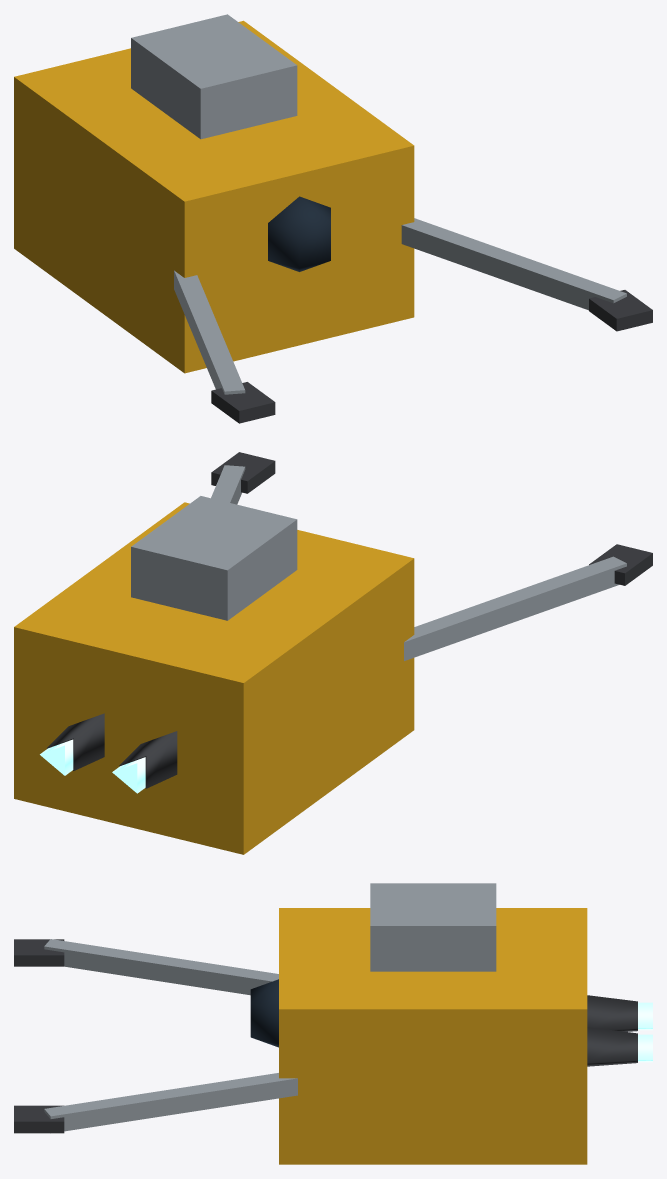
File: space_ship_builder_drone_mk4_lod2.glb
3 renders of one model, top to bottom at view 1: azimuth 30°, elevation 25°; view 2: azimuth 150°, elevation 25°; view 3: azimuth 270°, elevation 25°, orthographic. The views are drawn at different scales.
Visible parts, largest first — view 1: body, arm_1, arm_0; view 2: body, arm_0, engine_0, engine_1, arm_1; view 3: body, arm_1, arm_0, engine_1, engine_0.
Boxes of the visible parts, <box> form: body: <box>14,14,414,373</box>; arm_1: <box>401,218,652,331</box>; arm_0: <box>174,270,275,423</box>; body: <box>14,496,414,854</box>; arm_0: <box>404,544,652,660</box>; engine_0: <box>112,731,177,793</box>; engine_1: <box>40,713,104,775</box>; arm_1: <box>211,452,275,504</box>; body: <box>250,883,587,1164</box>; arm_1: <box>14,1073,297,1133</box>; arm_0: <box>14,939,278,995</box>; engine_1: <box>587,1027,652,1066</box>; engine_0: <box>587,995,652,1031</box>.
Size of the model in its own units: 3.43 by 1.83 by 5.07.
